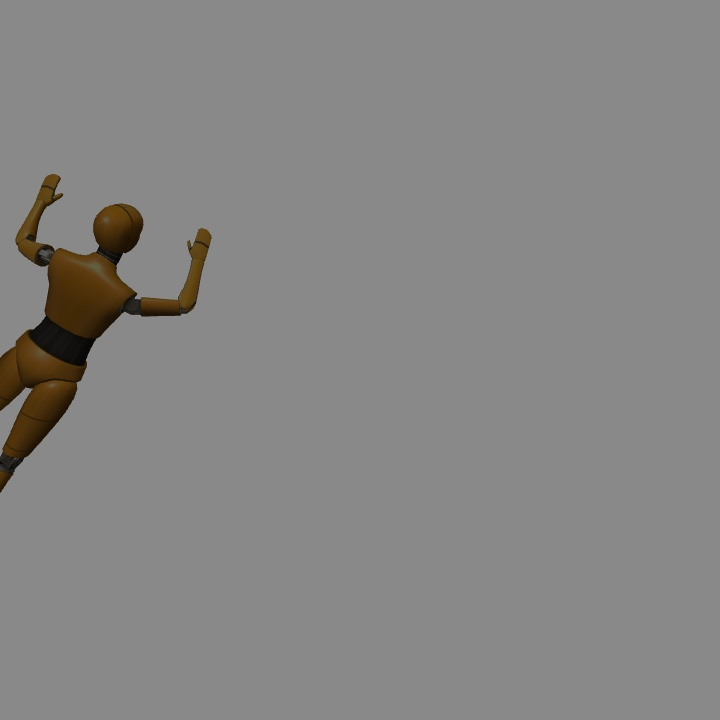victim: (3, 178, 212, 493)
